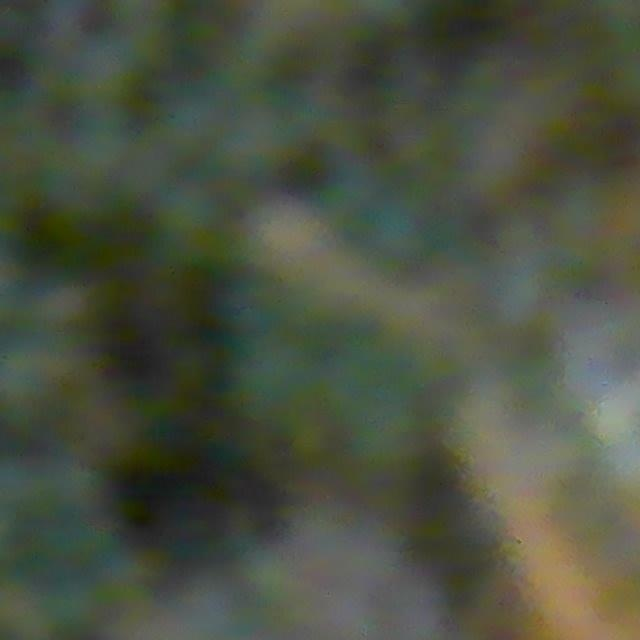SeaGrape: (55, 526, 136, 585), (0, 460, 41, 517)
